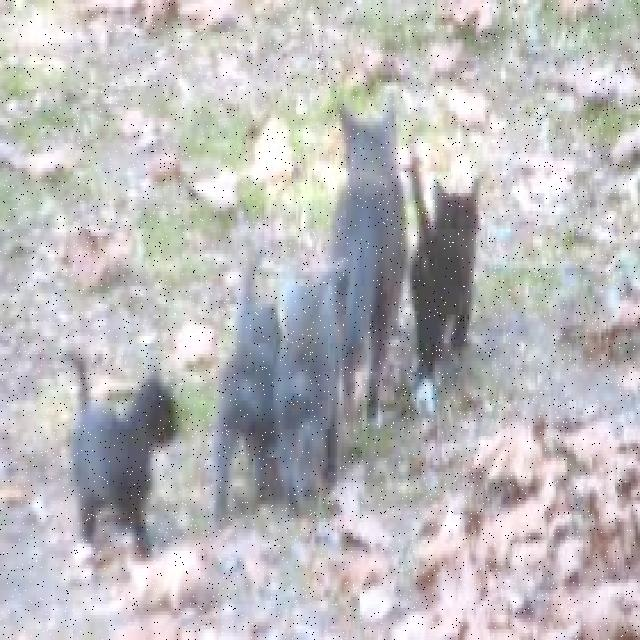cat: (331, 104, 406, 419), (71, 353, 175, 556), (278, 263, 345, 507), (411, 157, 478, 376), (220, 304, 281, 519)
